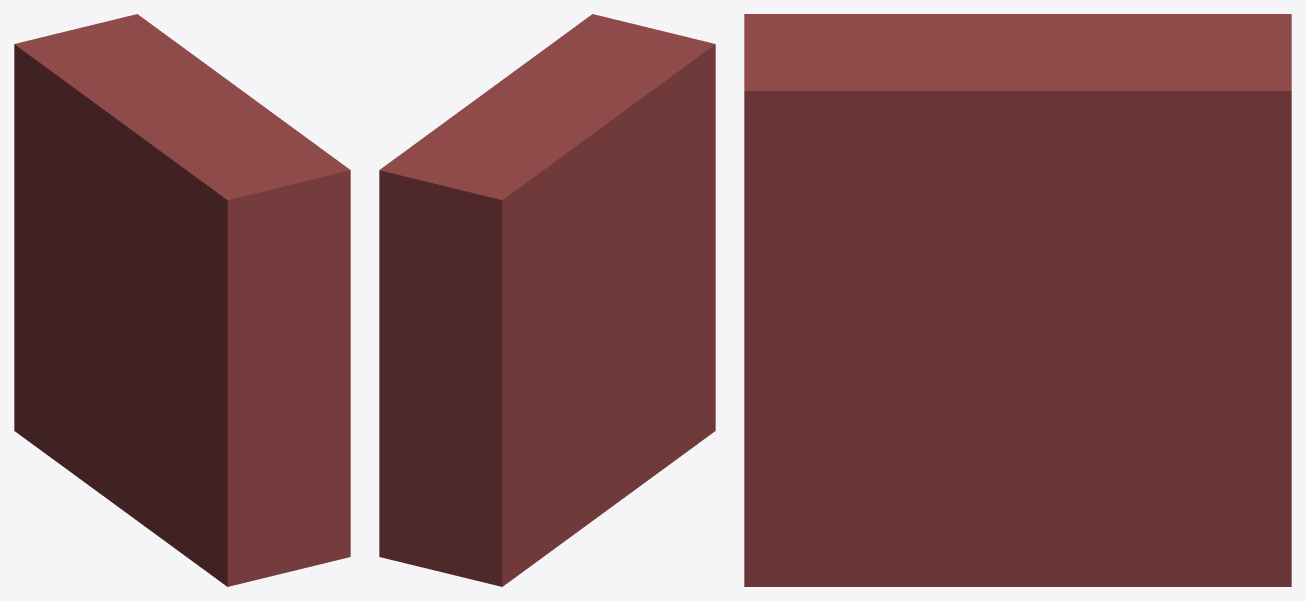
Rendered from Wall 3x1.fbx.
The picture shows the model from 3 angles, left to right: view 1: azimuth 30°, elevation 25°; view 2: azimuth 150°, elevation 25°; view 3: azimuth 270°, elevation 25°; orthographic projection. The views are drawn at different scales.
Visible parts, largest first — view 1: Wall_3x1; view 2: Wall_3x1; view 3: Wall_3x1.
Boxes of the visible parts, x1,y1,x2,y2 form: Wall_3x1: (14,14,350,586); Wall_3x1: (379,14,715,586); Wall_3x1: (744,14,1291,586).
Bounding box in the file's own units: 1 × 3 × 3.
